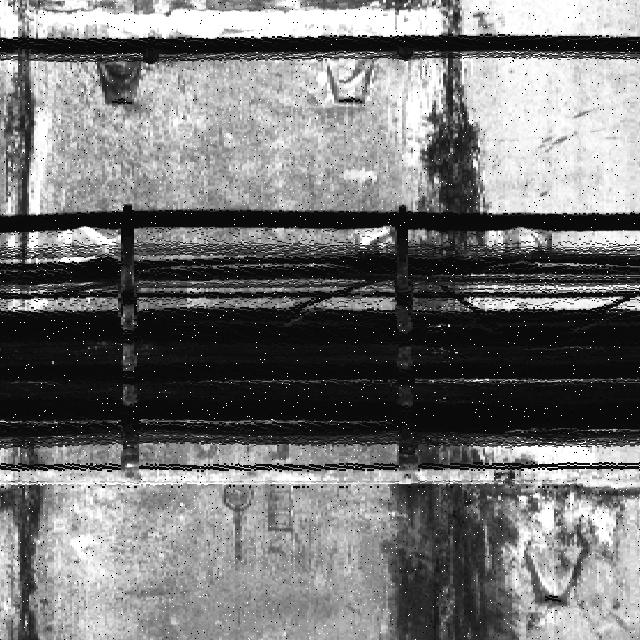leakage: (376, 448, 523, 640), (412, 6, 490, 317), (0, 1, 51, 270), (2, 448, 49, 640)
